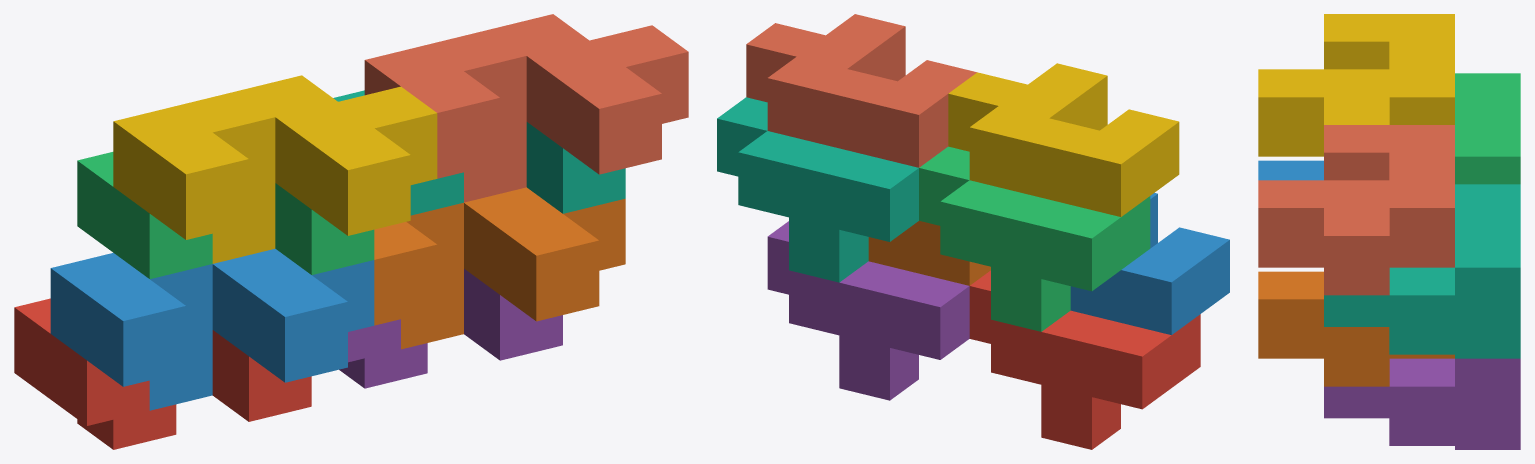
File: tiling.obj
3 renders of one model, left to right at view 1: azimuth 30°, elevation 25°; view 2: azimuth 150°, elevation 25°; view 3: azimuth 270°, elevation 25°, orthographic. The views are drawn at different scales.
Visible parts, largest first — view 1: copy_1_domain_4, copy_1_domain_8, copy_1_domain_2, copy_1_domain_6, copy_1_domain_1, copy_1_domain_3, copy_1_domain_5, copy_1_domain_7; view 2: copy_1_domain_4, copy_1_domain_8, copy_1_domain_3, copy_1_domain_7, copy_1_domain_1, copy_1_domain_5, copy_1_domain_2, copy_1_domain_6; view 3: copy_1_domain_8, copy_1_domain_4, copy_1_domain_7, copy_1_domain_5, copy_1_domain_6, copy_1_domain_3, copy_1_domain_2.
Boxes of the visible parts, x1,y1,x2,y2 form: copy_1_domain_4: [113, 75, 437, 263]; copy_1_domain_8: [364, 14, 688, 202]; copy_1_domain_2: [50, 248, 374, 410]; copy_1_domain_6: [374, 187, 625, 349]; copy_1_domain_1: [14, 298, 311, 449]; copy_1_domain_3: [77, 152, 374, 278]; copy_1_domain_5: [339, 269, 562, 388]; copy_1_domain_7: [333, 90, 625, 215]; copy_1_domain_4: [948, 63, 1179, 216]; copy_1_domain_8: [746, 14, 976, 167]; copy_1_domain_3: [919, 146, 1150, 331]; copy_1_domain_7: [717, 97, 918, 282]; copy_1_domain_1: [969, 270, 1200, 449]; copy_1_domain_5: [767, 221, 969, 400]; copy_1_domain_2: [1070, 193, 1229, 334]; copy_1_domain_6: [868, 221, 990, 285]; copy_1_domain_8: [1258, 125, 1454, 295]; copy_1_domain_4: [1258, 14, 1454, 156]; copy_1_domain_7: [1324, 184, 1520, 358]; copy_1_domain_5: [1324, 358, 1520, 449]; copy_1_domain_6: [1258, 271, 1454, 386]; copy_1_domain_3: [1455, 73, 1520, 184]; copy_1_domain_2: [1258, 160, 1323, 180].
Size of the model in its own units: 9 by 5 by 4.
